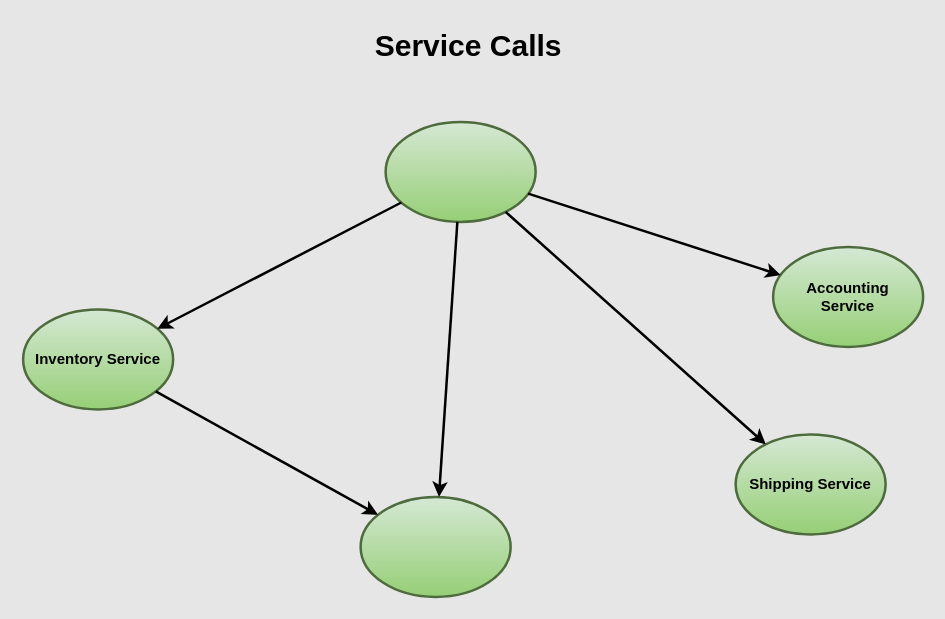
This 945x619 diagram has some shape labels left out. The centre of each missing label's shape, as x and y in pixels:
Location Service: (x=435, y=546)
Order Service: (x=460, y=171)
